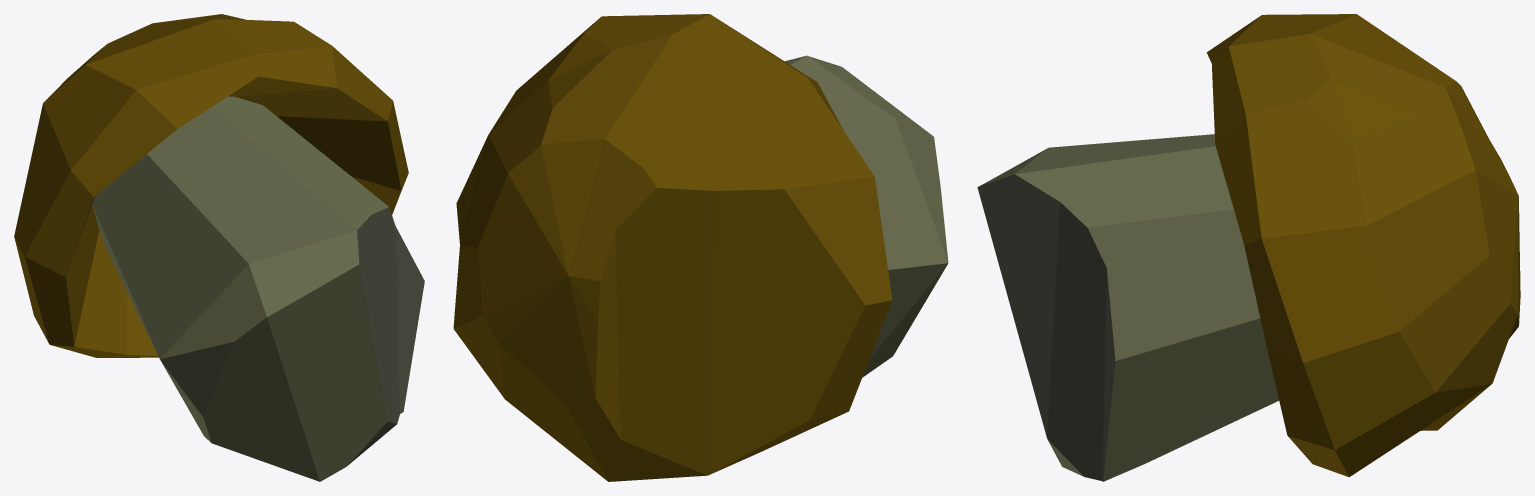
The model's file is Shroom_Rotten.fbx.
The picture shows the model from 3 angles, left to right: view 1: azimuth 30°, elevation 25°; view 2: azimuth 150°, elevation 25°; view 3: azimuth 270°, elevation 25°; orthographic projection. The views are drawn at different scales.
Visible parts, largest first — view 1: SM_Boletus_Rotten; view 2: SM_Boletus_Rotten; view 3: SM_Boletus_Rotten.
Boxes of the visible parts, x1,y1,x2,y2 form: SM_Boletus_Rotten: (14, 14, 424, 481); SM_Boletus_Rotten: (453, 14, 948, 481); SM_Boletus_Rotten: (977, 14, 1520, 481).
Size of the model in its own units: 8.12 by 7.75 by 8.84.
1 material, 1 textured.
